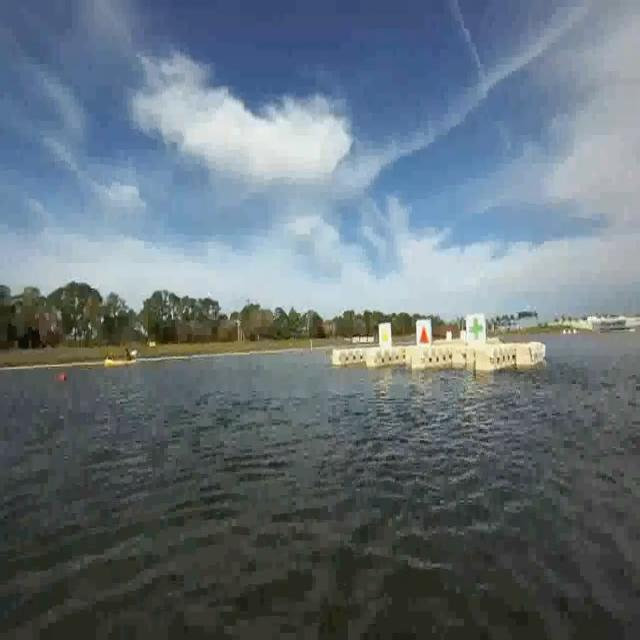blue-cross: (465, 314, 487, 346)
red-dot: (416, 316, 430, 347)
yellow-duck: (379, 324, 391, 349)
